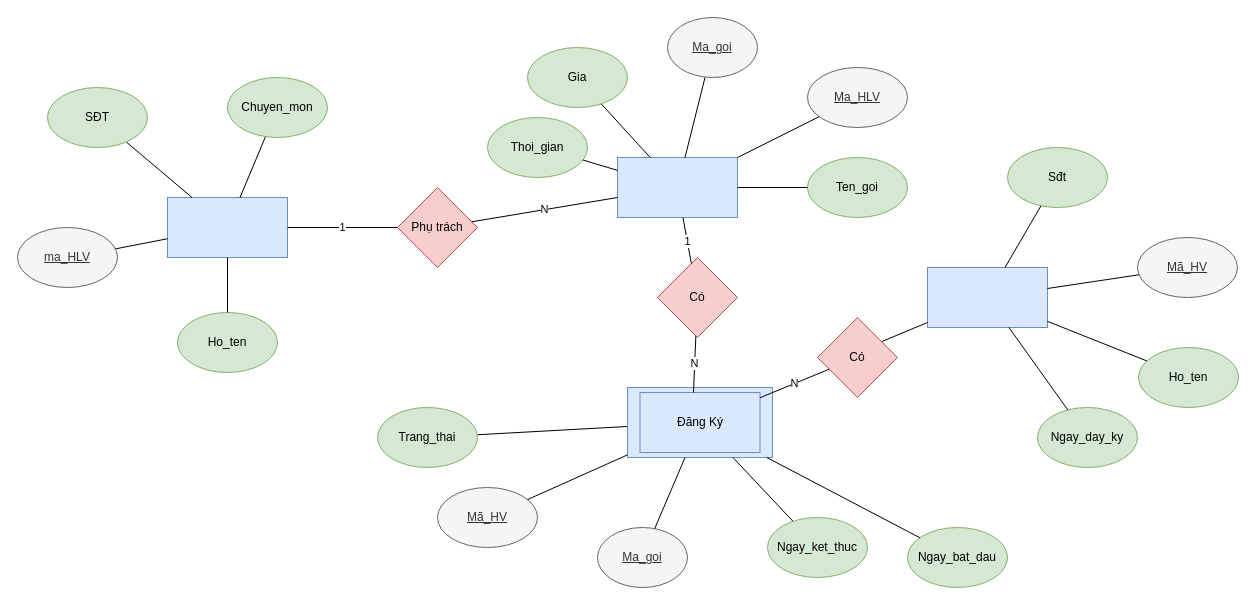
The diagram is 1256 pixels wide and 605 high, and some of its shapes have lost their labels. Each missing label, with the box of its shape:
Gói: (616, 156, 738, 218)
Huấn Luyện Viên: (166, 196, 288, 258)
Hội Viên: (926, 266, 1048, 328)
